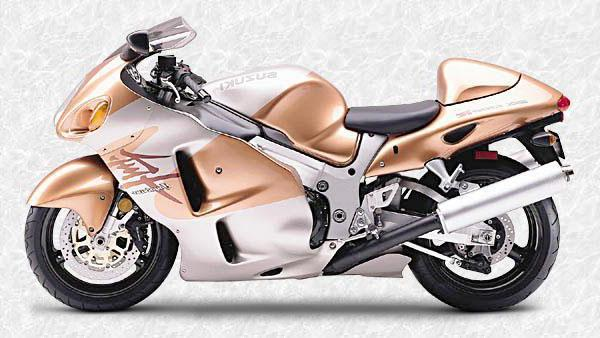motorcycle: (14, 1, 583, 323)
